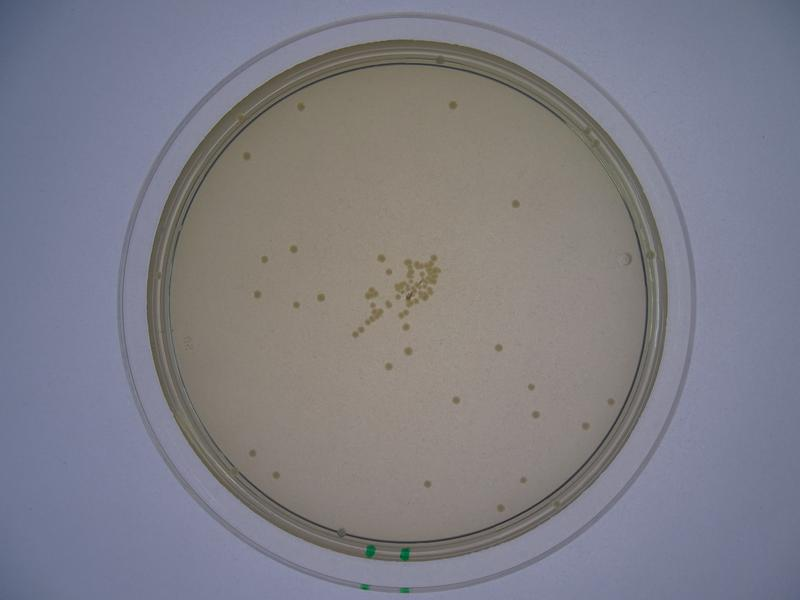colony: (577, 419, 592, 435), (447, 97, 461, 112), (491, 342, 506, 356), (521, 379, 537, 392), (291, 298, 304, 313), (421, 478, 436, 491), (528, 406, 541, 421), (256, 253, 270, 266), (381, 360, 394, 374), (271, 469, 284, 483), (449, 392, 463, 405), (295, 101, 308, 114), (495, 501, 508, 514), (604, 395, 617, 408), (287, 242, 299, 256), (508, 196, 522, 208), (516, 474, 530, 486), (247, 445, 258, 459), (249, 289, 264, 299), (315, 289, 325, 303), (374, 251, 385, 263), (241, 149, 253, 160), (401, 346, 414, 356)
